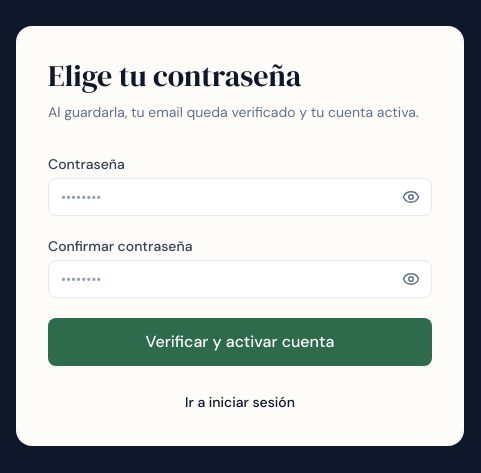
Test: VerifyEmailPage › no envía nada si la contraseña tiene menos de 8 caracteres
The width and height of the screenshot is (481, 473).
In the password field labelled "Contraseña": (240, 197) x1=48 y1=178 x2=432 y2=216, type "corta1"
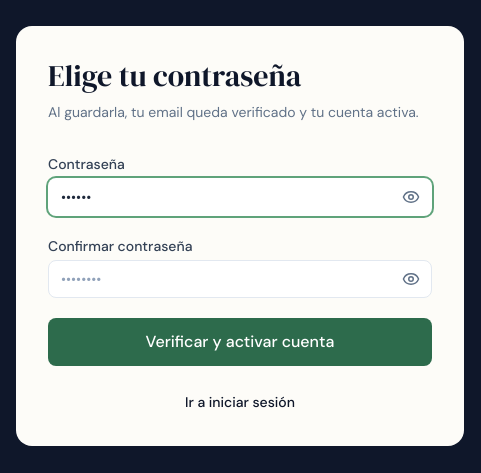
In the password field labelled "Confirmar contraseña": (240, 279) x1=48 y1=260 x2=432 y2=298, type "corta1"
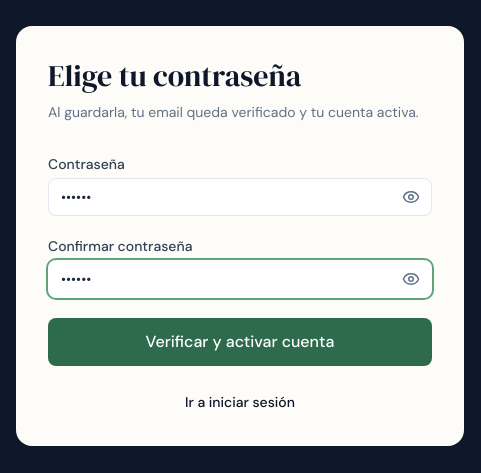
Click the button "Verificar y activar cuenta": (240, 342) x1=48 y1=318 x2=432 y2=366
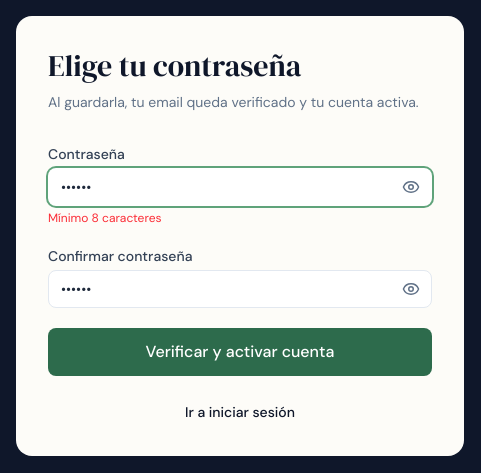
Now the text "Mínimo 8 caracteres" is shown, box x1=48 y1=210 x2=162 y2=226
